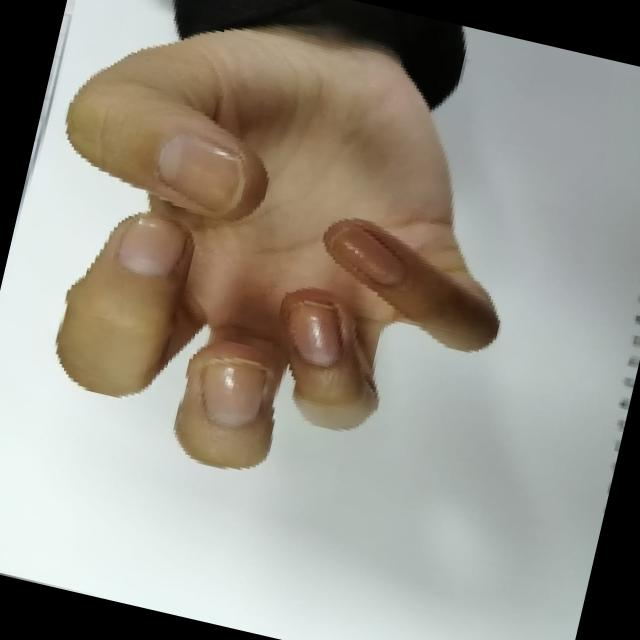Nail: (155, 133, 245, 213), (116, 214, 185, 275), (201, 361, 265, 426), (333, 228, 405, 284), (292, 299, 341, 365)
